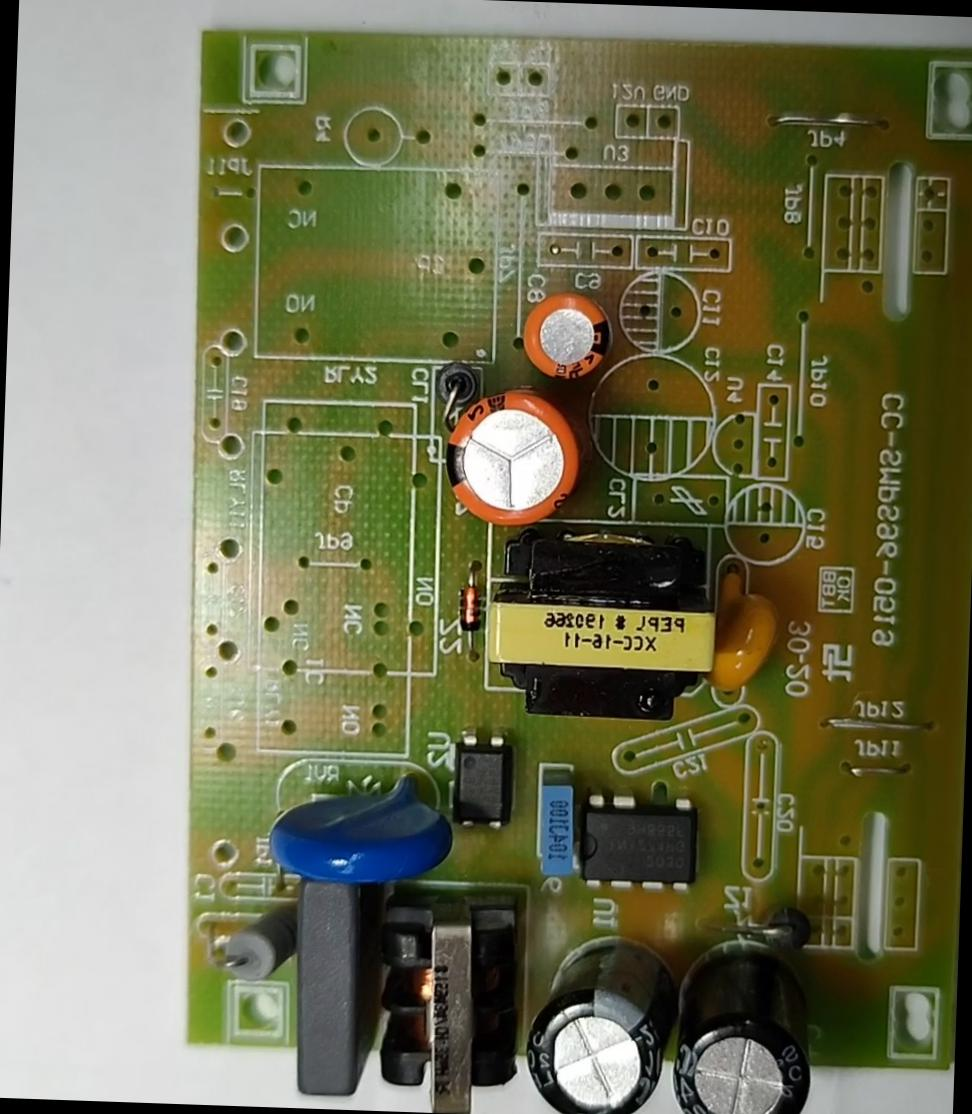Cap1: (441, 378, 585, 530)
Cap2: (518, 287, 618, 384)
Cap3: (515, 930, 675, 1113)
Cap4: (665, 954, 819, 1113)
MOSFET: (576, 788, 704, 894)
Mov: (266, 768, 461, 890)
Resistor: (213, 902, 301, 990)
Transformer: (476, 539, 724, 725), (360, 894, 521, 1113)
